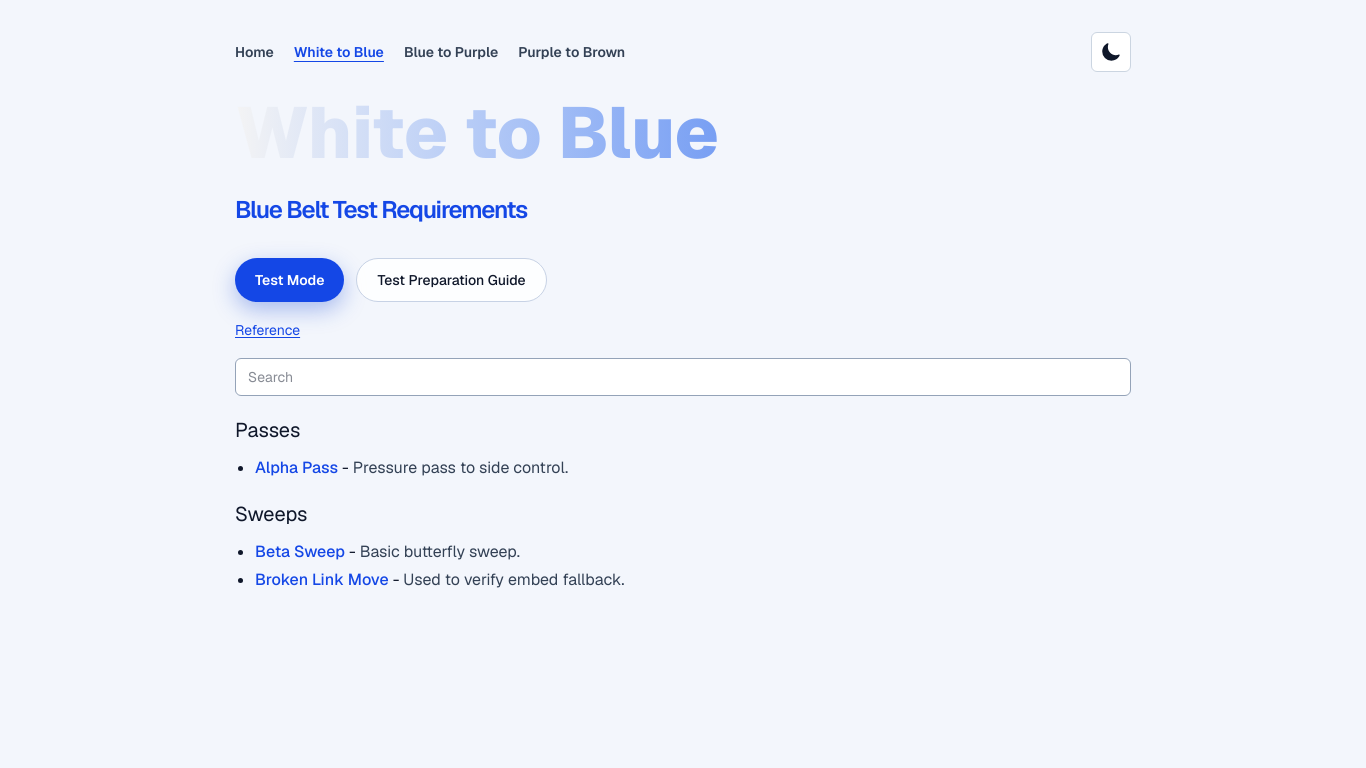
Test: BeltMovesPage › toggles test mode
The image size is (1366, 768).
Step 1. Click the button "Test Mode" → (290, 280), box [235,258,344,302]
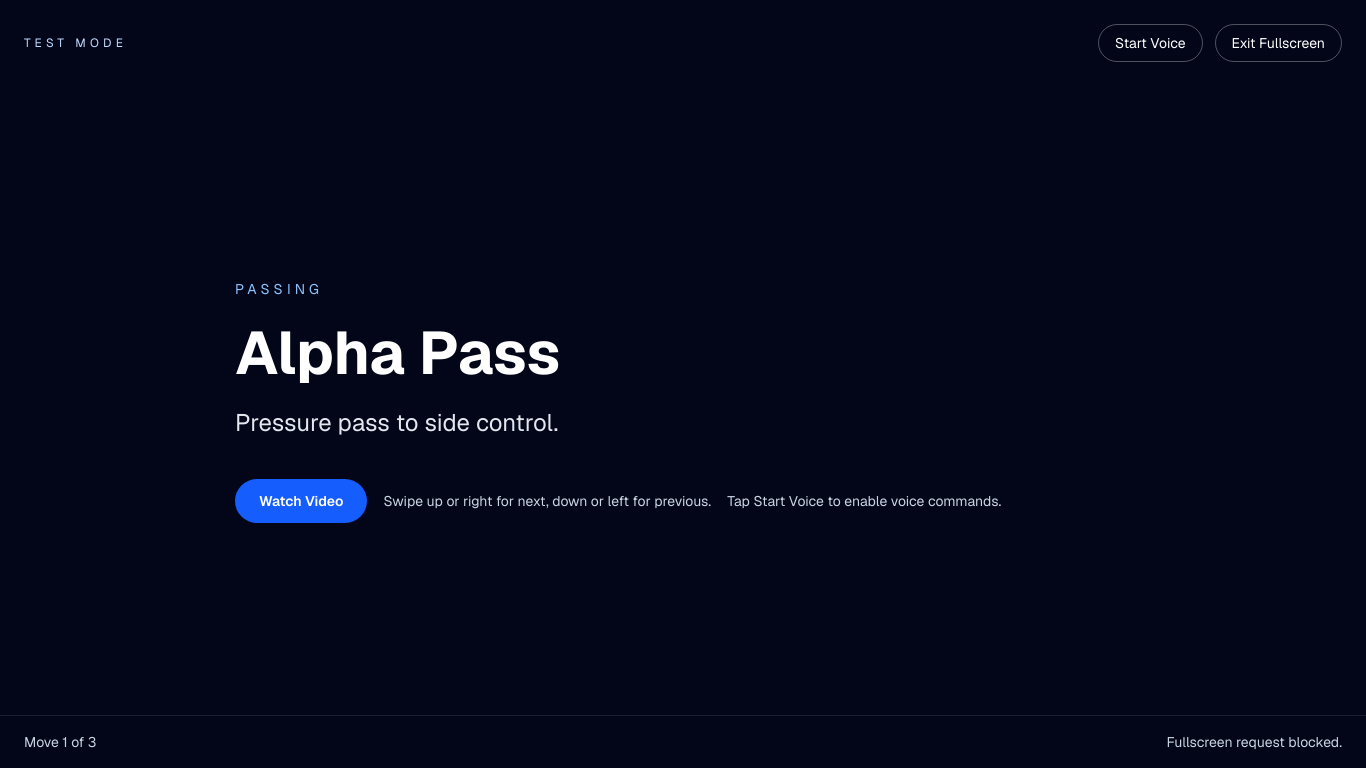
Check: the button "Exit Test Mode" is shown, box [235,258,373,302]
Check: the button "Exit Fullscreen" is shown, box [1214,24,1342,62]
Check: the text "Move 1 of 3" is shown, box [24,732,96,752]
